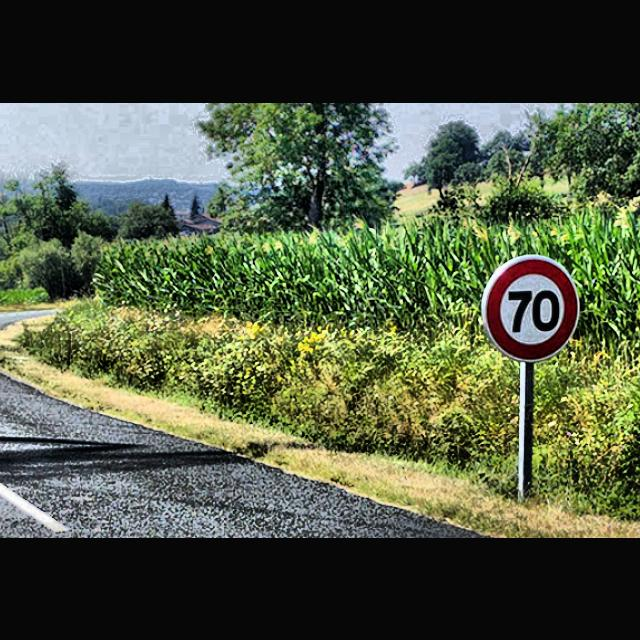speed_70: (482, 252, 578, 364)
